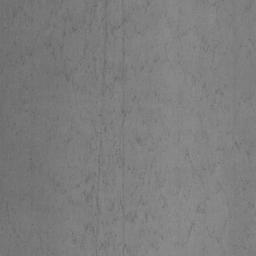Silk spot: (0, 0, 254, 256), (200, 0, 232, 26)
